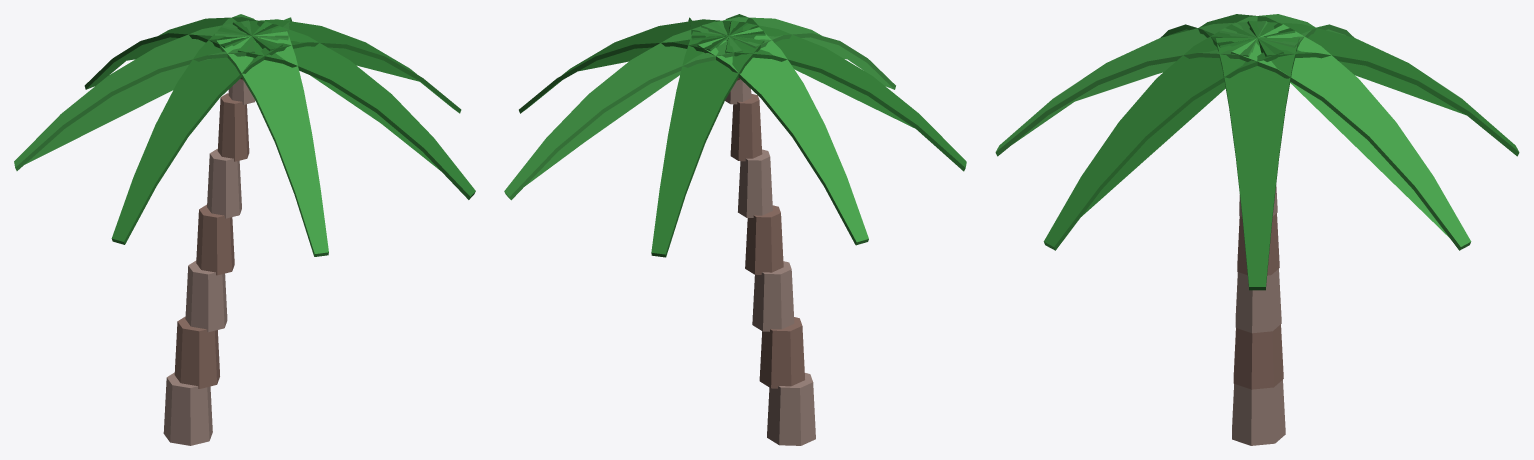
File: palm.glb
3 renders of one model, left to right at view 1: azimuth 30°, elevation 25°; view 2: azimuth 150°, elevation 25°; view 3: azimuth 270°, elevation 25°, orthographic. The views are drawn at different scales.
Visible parts, largest first — view 1: palm; view 2: palm; view 3: palm.
Part boxes in pixels (x1=…): palm: x1=14, y1=14, x2=475, y2=445; palm: x1=504, y1=14, x2=966, y2=445; palm: x1=995, y1=14, x2=1519, y2=445.
Size of the model in its own units: 3.06 by 2.85 by 3.14.
